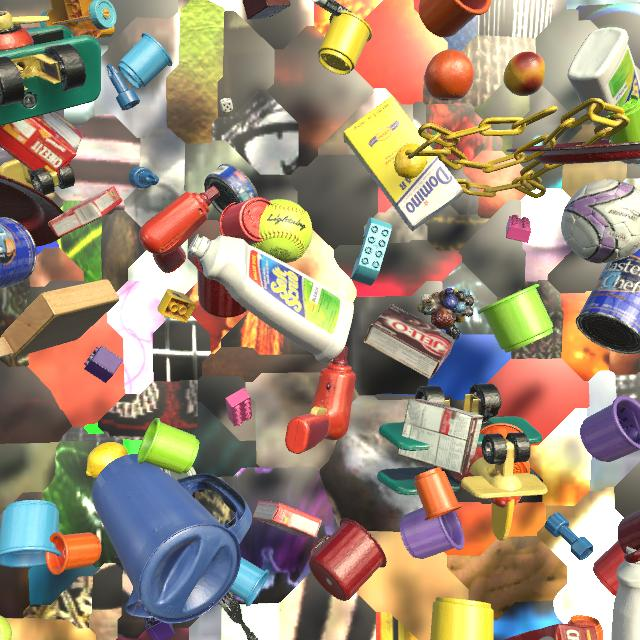ycb_002_master_chef_can: (576, 249, 640, 354), (0, 217, 37, 289)
ycb_003_cracker_box: (0, 112, 83, 175), (504, 624, 598, 640)
ycb_004_sugar_box: (343, 96, 463, 231)
ycb_005_tomato_soup_can: (159, 466, 196, 495)
ycb_007_tuna_fish_can: (204, 163, 258, 214)
ycb_008_pudding_box: (363, 304, 455, 379), (397, 399, 483, 475)
ycb_009_gelatin_box: (48, 186, 122, 237), (252, 500, 322, 538)
ycb_014_lemon: (86, 442, 129, 479), (394, 143, 427, 179)
ycb_015_peach: (503, 51, 545, 96)
ycb_017_orange: (425, 49, 474, 101)
